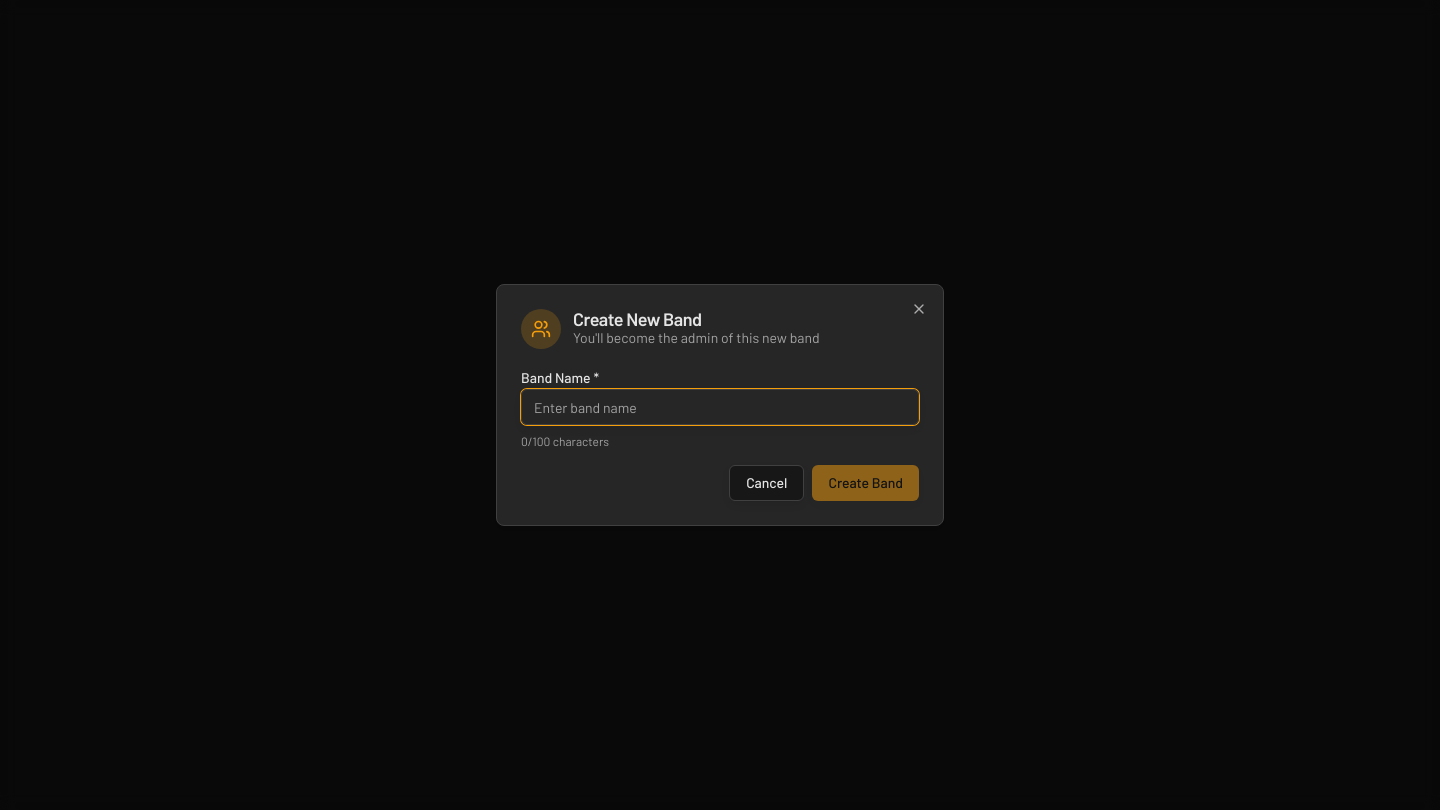
Test: CreateBandDialog › error handling › should show generic error message when submission fails without error message
Type "Test Band" into the field labelled "Band Name *".
click(720, 407); type("Test Band")  # box [521,389,919,425]
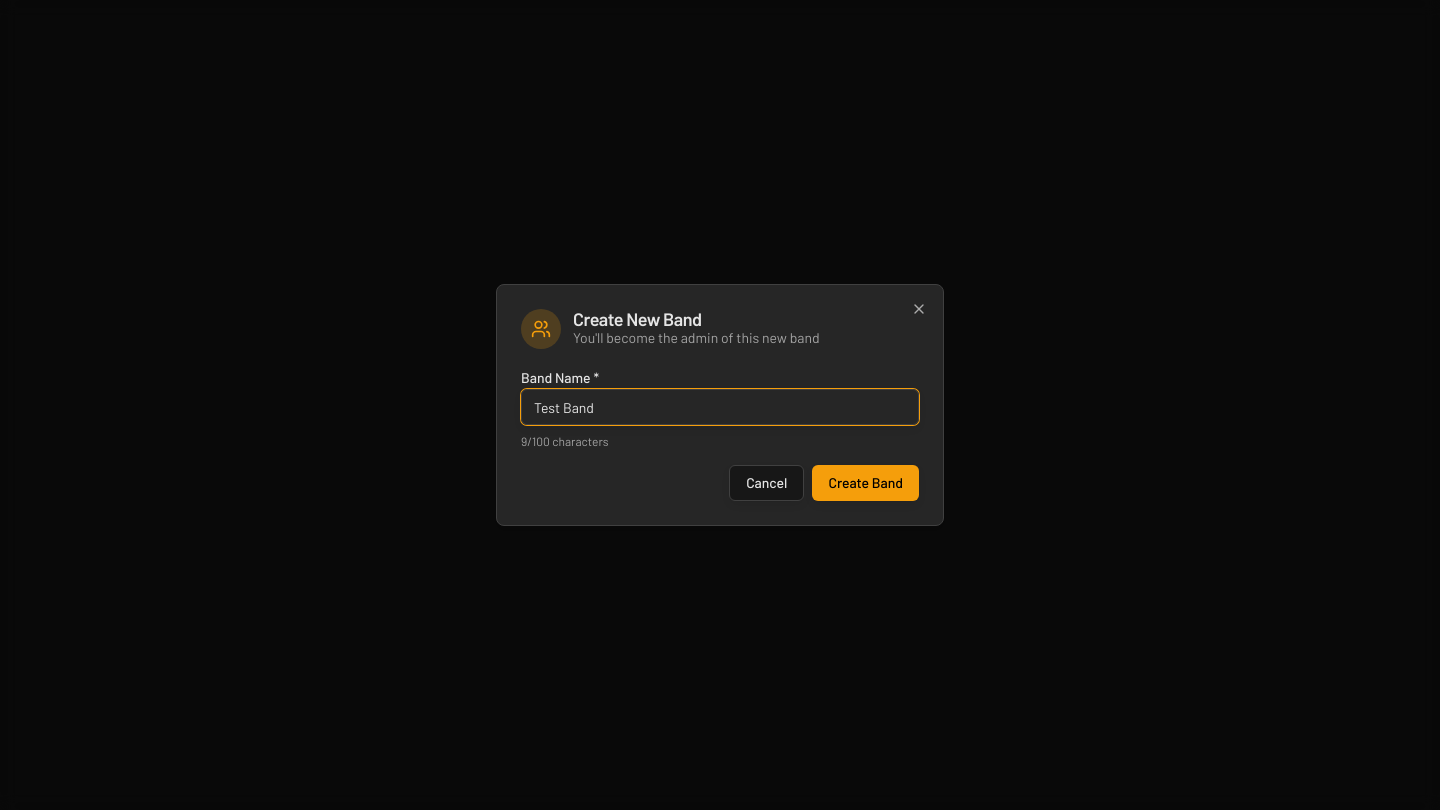
Click the button "Create Band".
click(866, 483)  # box [812,465,919,501]
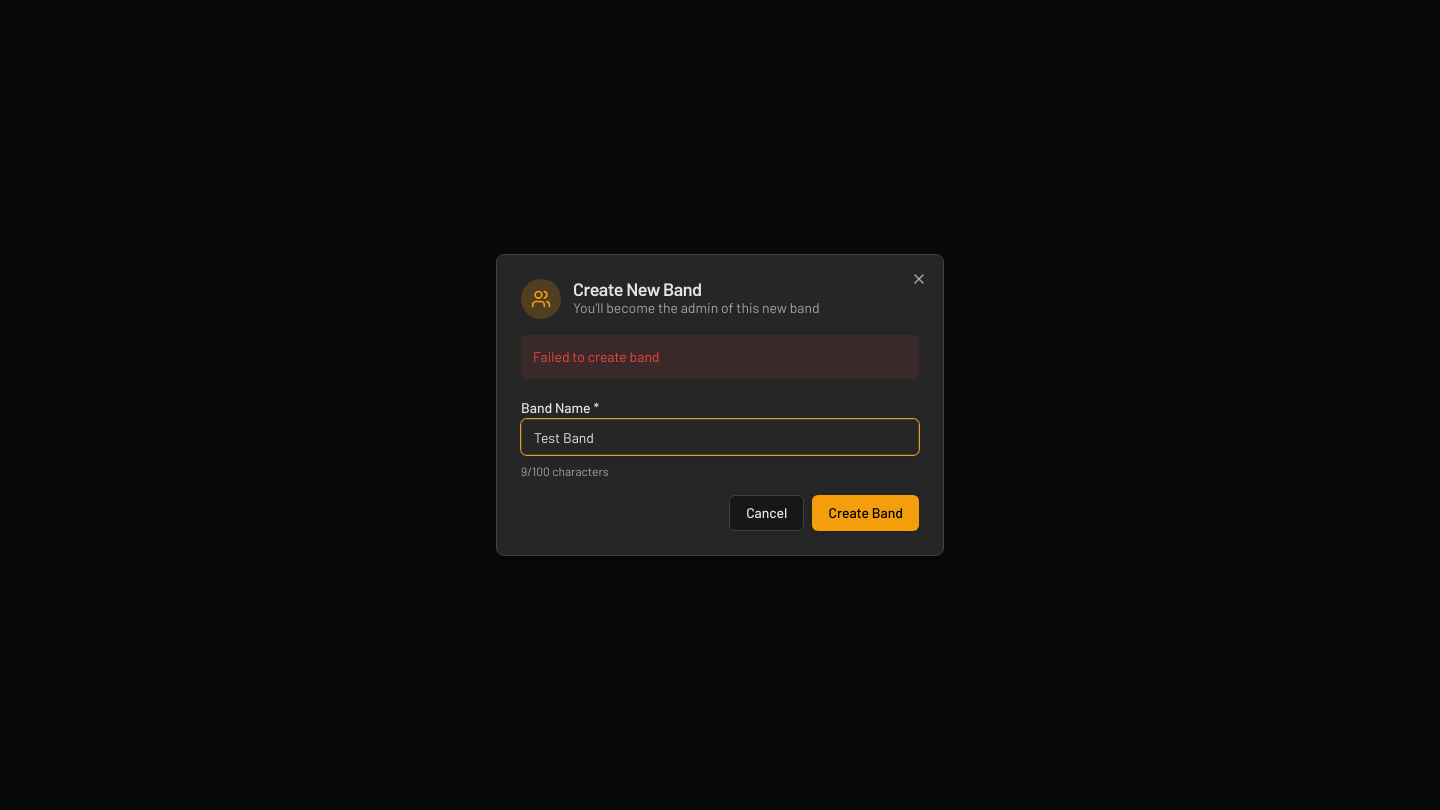
Now the text "Failed to create band" is shown, box [521,335,919,379]
